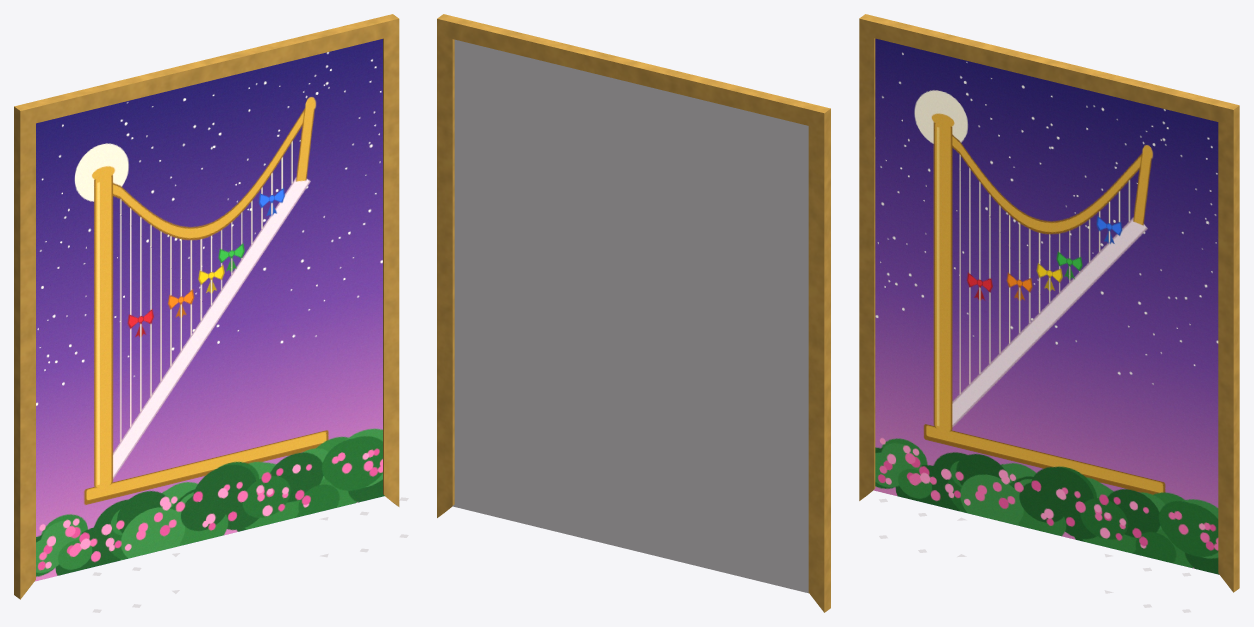
Rendered from citadel_harp_painting.glb.
The picture shows the model from 3 angles, left to right: view 1: azimuth 30°, elevation 25°; view 2: azimuth 150°, elevation 25°; view 3: azimuth 330°, elevation 25°; orthographic projection. The views are drawn at different scales.
Parts seen in each view (by area): view 1: harp_painting_Clue_Rainbow_Harp_v2, harp_painting_Citadel_Gold; view 2: harp_painting_Lacquer_White, harp_painting_Citadel_Gold; view 3: harp_painting_Clue_Rainbow_Harp_v2, harp_painting_Citadel_Gold.
Part boxes in pixels (x1=…): harp_painting_Clue_Rainbow_Harp_v2: x1=35, y1=39, x2=384, y2=581; harp_painting_Citadel_Gold: x1=14, y1=14, x2=399, y2=599; harp_painting_Lacquer_White: x1=452, y1=39, x2=808, y2=593; harp_painting_Citadel_Gold: x1=437, y1=14, x2=830, y2=612; harp_painting_Clue_Rainbow_Harp_v2: x1=873, y1=38, x2=1219, y2=574; harp_painting_Citadel_Gold: x1=859, y1=14, x2=1239, y2=592.
Bounding box in the file's own units: 1.72 × 2.16 × 0.2758.
3 materials, 2 textured.
